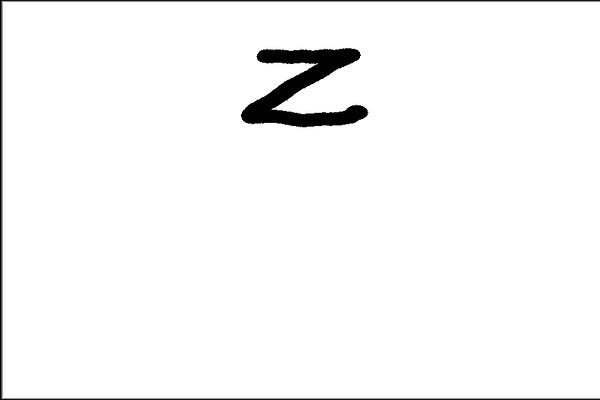Z: (227, 35, 404, 130)
